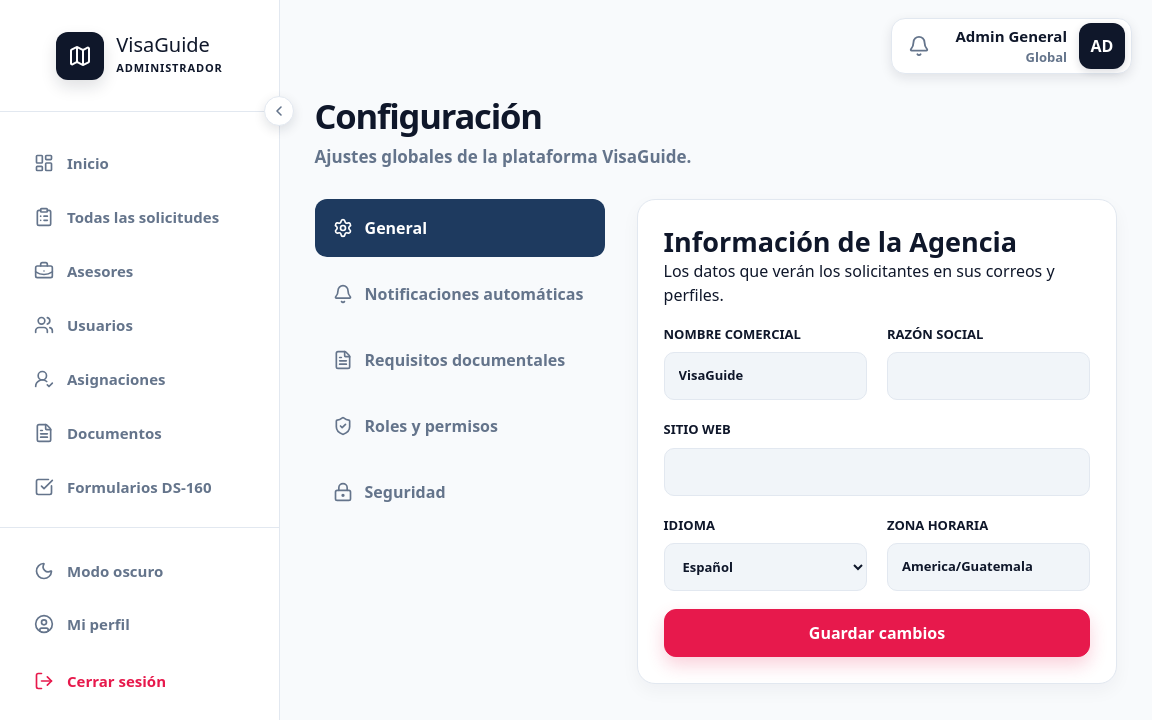
Scenario: panel de administracion › permite desactivar las notificaciones automáticas desde configuración
expect the field showing "VisaGuide" is shown: met, box [664, 352, 867, 400]
Click the button "Notificaciones automáticas" at (460, 294), box [314, 265, 604, 323]
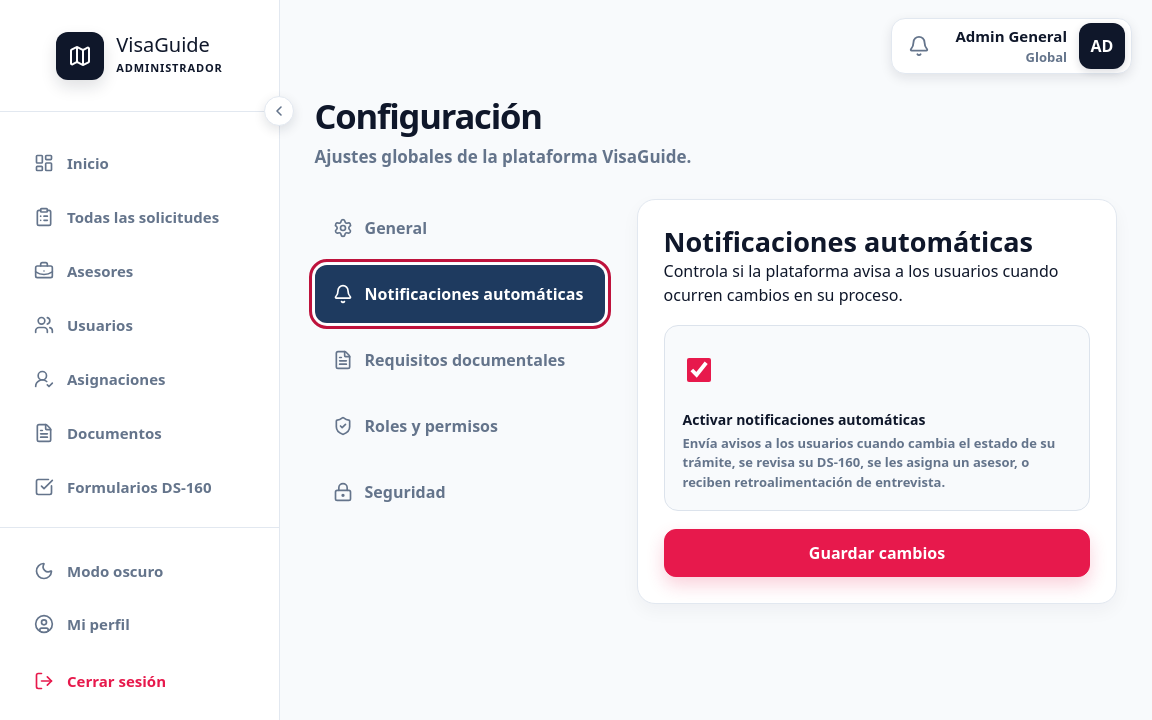
expect the checkbox labelled "Activar notificaciones automáticas" is checked: met
Click the checkbox labelled "Activar notificaciones automáticas" at (698, 370), box [686, 346, 710, 394]
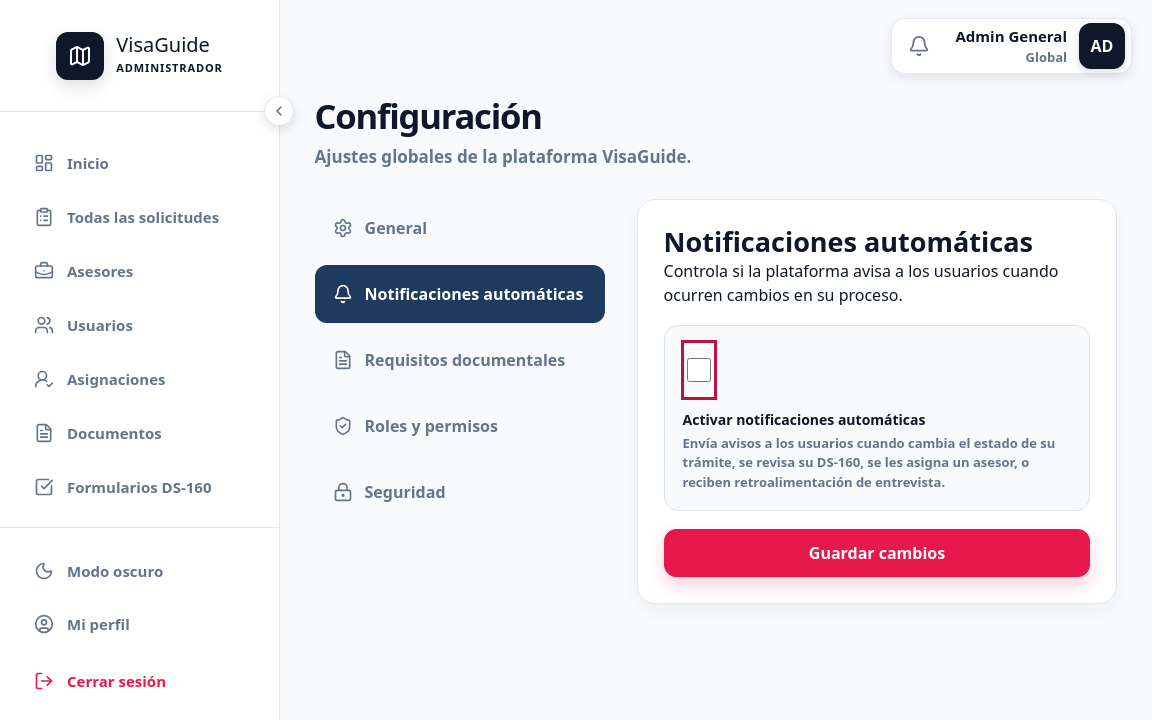
Click the button "Guardar cambios" at (877, 553), box [664, 529, 1090, 577]
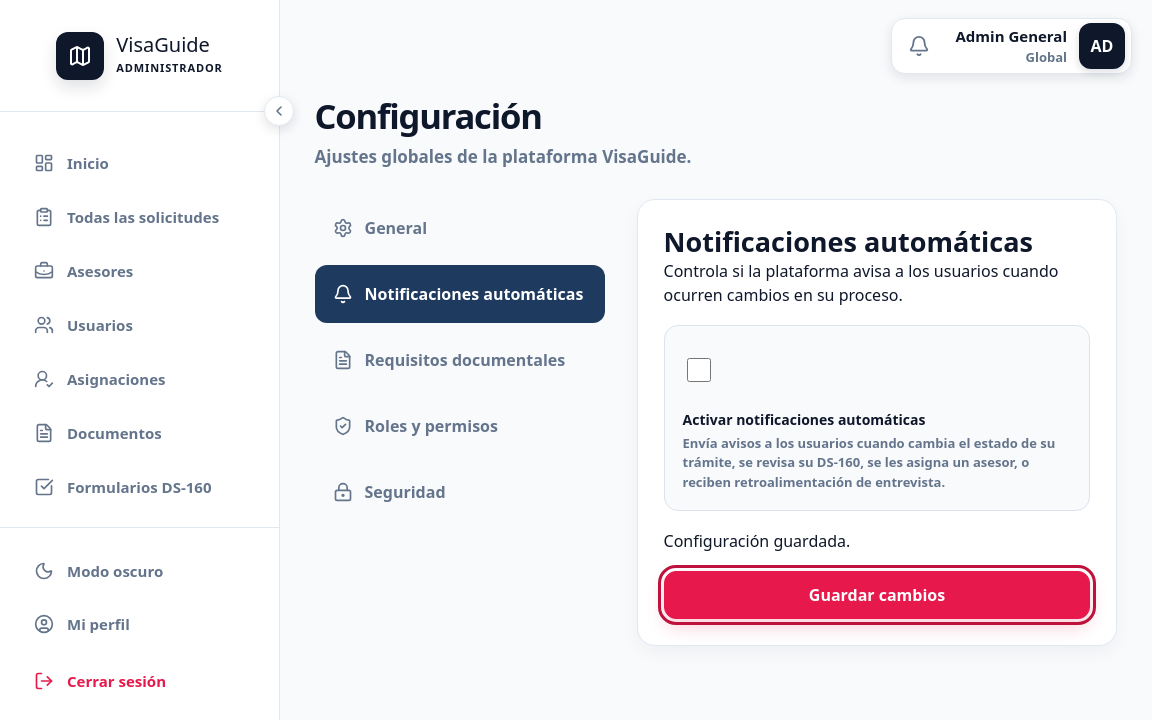
expect the checkbox labelled "Activar notificaciones automáticas" is not checked: met, box [686, 346, 710, 394]
expect the text "Configuración guardada." is shown: met, box [664, 530, 850, 552]
